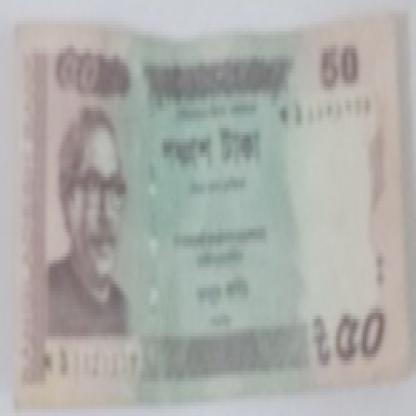Fifty taka: (333, 309, 391, 388), (51, 42, 100, 108)
